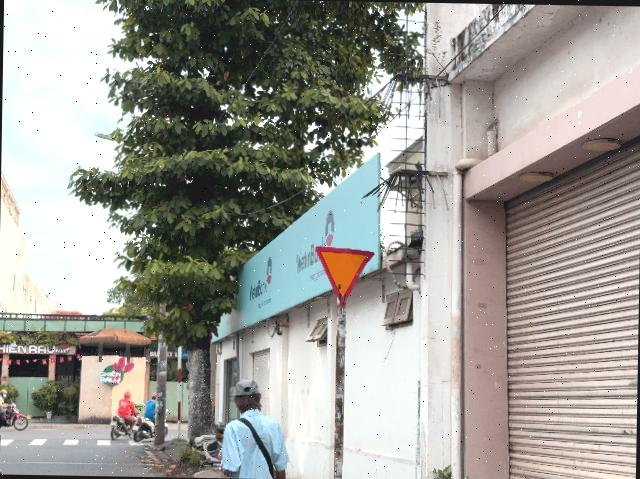giao-nhau-voi-duong-uu-tien: (314, 246, 376, 304)
